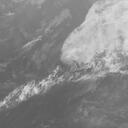cyclone: (60, 31, 103, 73)
